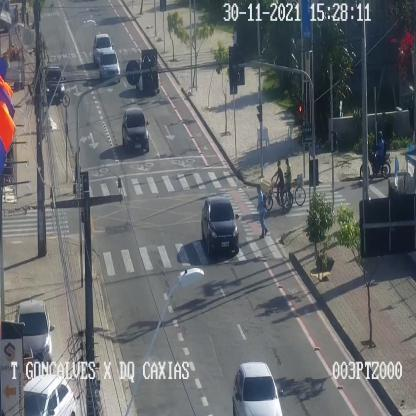bicycle: (264, 160, 293, 212), (276, 157, 305, 205)
car: (233, 362, 282, 416), (16, 300, 55, 366), (201, 195, 241, 256), (24, 374, 75, 416), (122, 105, 149, 153), (100, 48, 121, 81), (45, 69, 65, 103), (93, 34, 114, 64)
motorbike: (359, 131, 391, 182)
person: (257, 184, 268, 238), (232, 28, 237, 48)
